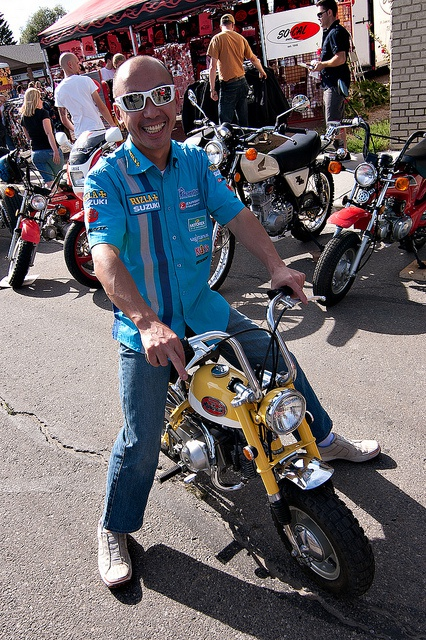non-vehicle: (153, 285, 376, 596), (60, 122, 210, 291), (307, 117, 424, 311), (230, 131, 340, 243), (0, 149, 81, 290)
